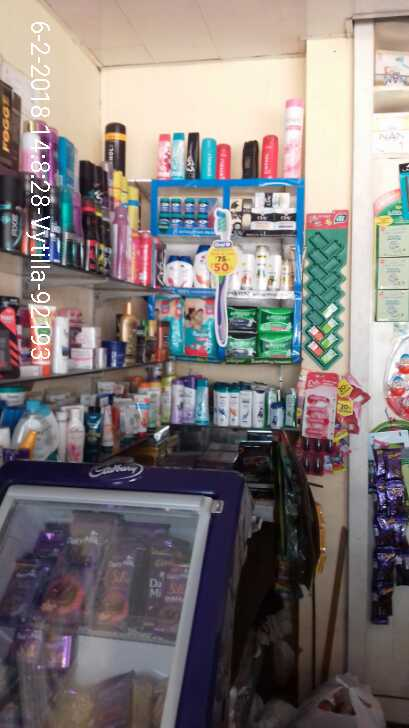vicks: (154, 198, 218, 235)
